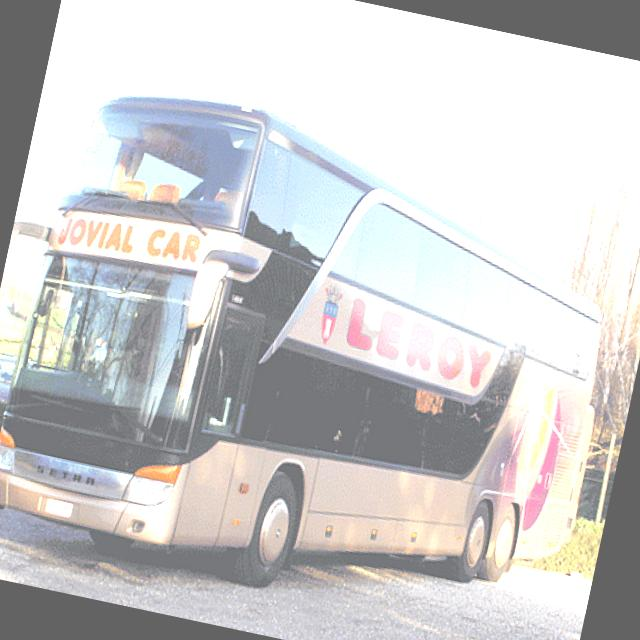Vehicle: (0, 63, 640, 640), (0, 348, 20, 406)
